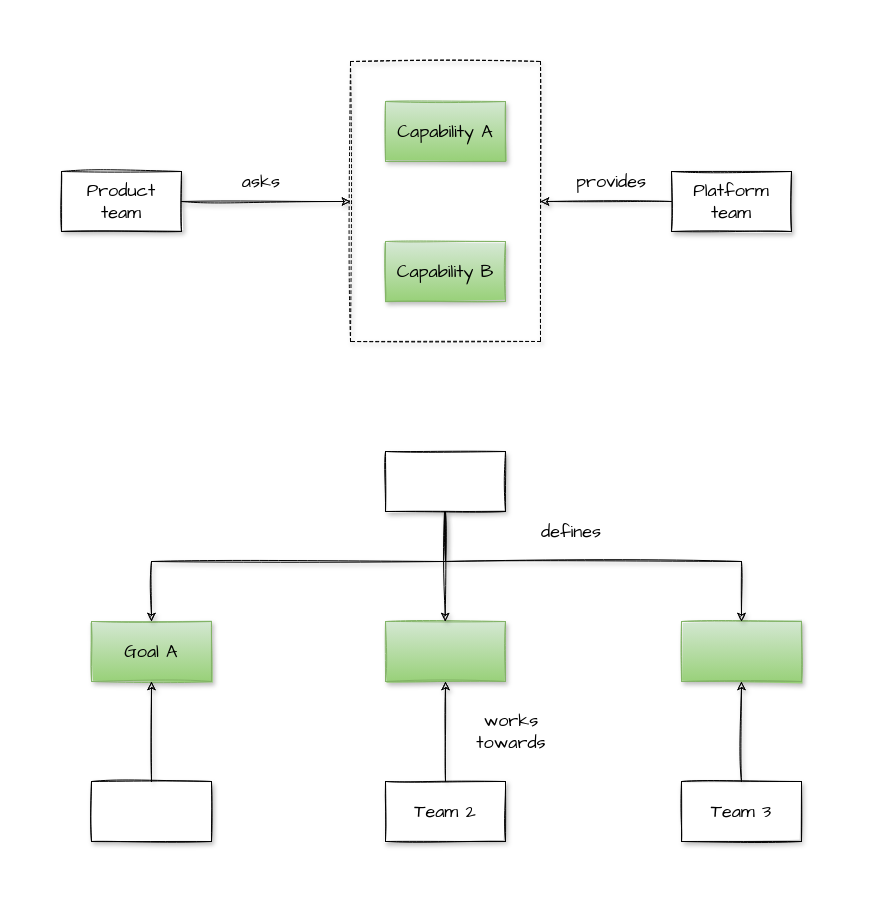
Image size: 874x905. Some labels were removed from this diagram. Here are the shapes that lost their labels. From the top down, the centre of each, then its label:
[446,482]: Manager
[446,652]: Goal B
[742,652]: Goal C
[152,812]: Team 1
